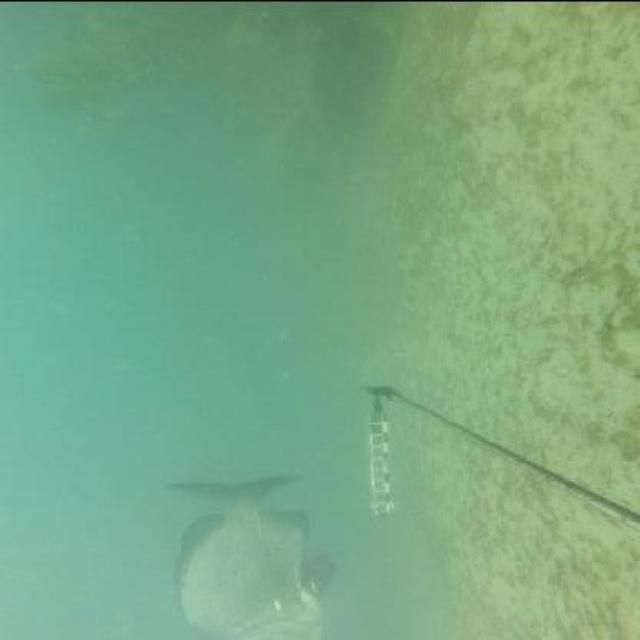acanthopagrus_palmaris: (157, 470, 340, 638)
